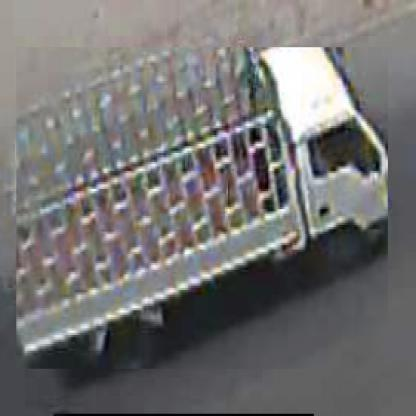truck: (16, 48, 389, 372)
